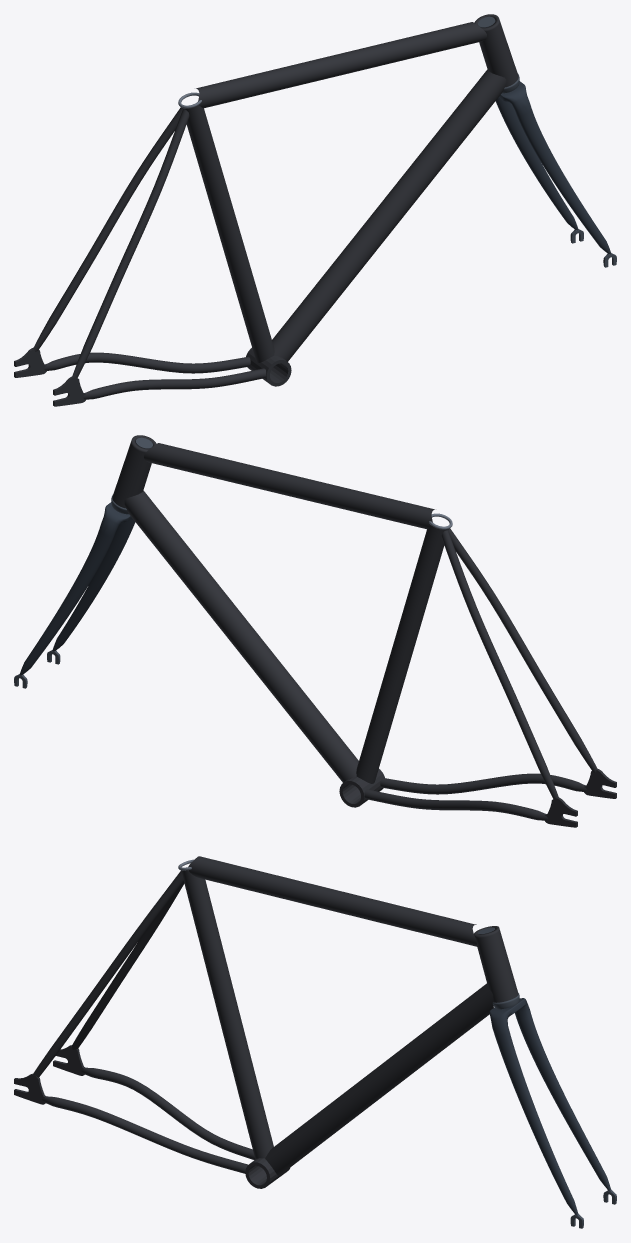
File: state-black-label-v3-52.glb
3 views of the same model, one above another, from view 1: azimuth 30°, elevation 25°; view 2: azimuth 150°, elevation 25°; view 3: azimuth 330°, elevation 25° (orthographic).
Parts seen in each view (by area): view 1: paint_down, paint_top, paint_seat, paint_seatstay_1, paint_seatstay_-1, fork_blade_1, paint_chainstay_-1, paint_chainstay_1, fork_blade_-1, paint_head, paint_bottom_bracket, rear_dropout_1 (+1 smaller); view 2: paint_down, paint_top, paint_seat, paint_seatstay_-1, paint_seatstay_1, fork_blade_-1, paint_chainstay_1, paint_chainstay_-1, fork_blade_1, paint_head, paint_bottom_bracket, rear_dropout_-1 (+1 smaller); view 3: paint_down, paint_top, paint_seat, fork_blade_1, fork_blade_-1, paint_seatstay_1, paint_chainstay_1, paint_head, paint_chainstay_-1, paint_seatstay_-1, paint_bottom_bracket, rear_dropout_1 (+2 smaller).
Boxes of the visible parts, x1,y1,x2,y2 form: paint_down: [272, 69, 506, 361]; paint_top: [196, 22, 486, 108]; paint_seat: [182, 105, 274, 362]; paint_seatstay_1: [72, 109, 189, 377]; paint_seatstay_-1: [33, 107, 182, 351]; fork_blade_1: [515, 103, 611, 254]; paint_chainstay_-1: [44, 352, 250, 373]; paint_chainstay_1: [83, 368, 266, 399]; fork_blade_-1: [495, 97, 578, 230]; paint_head: [474, 14, 518, 87]; paint_bottom_bracket: [246, 348, 291, 386]; rear_dropout_1: [53, 376, 86, 406]; paint_down: [124, 490, 358, 782]; paint_top: [144, 443, 434, 529]; paint_seat: [356, 526, 448, 783]; paint_seatstay_-1: [441, 530, 558, 798]; paint_seatstay_1: [448, 528, 597, 772]; fork_blade_-1: [19, 524, 115, 675]; paint_chainstay_1: [380, 773, 586, 794]; paint_chainstay_-1: [364, 789, 547, 820]; fork_blade_1: [52, 518, 135, 651]; paint_head: [112, 435, 156, 508]; paint_bottom_bracket: [339, 769, 384, 807]; rear_dropout_-1: [544, 797, 577, 827]; paint_down: [265, 983, 493, 1175]; paint_top: [188, 856, 476, 946]; paint_seat: [181, 870, 273, 1159]; fork_blade_1: [492, 1025, 578, 1215]; fork_blade_-1: [515, 1009, 611, 1191]; paint_seatstay_1: [33, 871, 183, 1077]; paint_chainstay_1: [42, 1096, 247, 1173]; paint_head: [474, 926, 518, 1002]; paint_chainstay_-1: [81, 1067, 255, 1159]; paint_seatstay_-1: [72, 881, 184, 1049]; paint_bottom_bracket: [245, 1158, 290, 1188]; rear_dropout_1: [14, 1073, 45, 1104].
Bounding box in the file's own units: 1.04 × 0.5403 × 0.1438.
